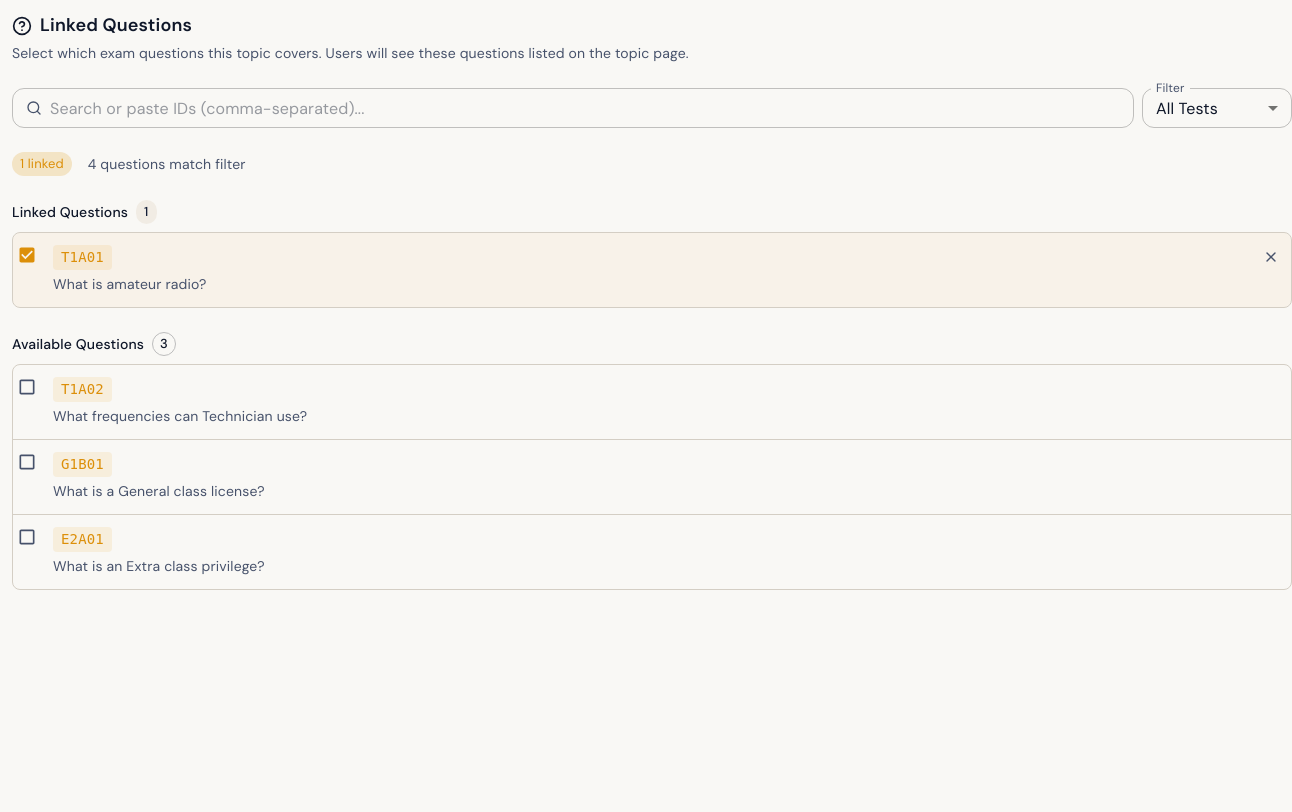
Test case: TopicQuestionManager › Test Type Filter › should filter to Technician questions only
Expected: the text "T1A01" is shown, [53,245,112,270]
// MUI's Select opens on mousedown, which userEvent raises and fireEvent.click does not.
Click the dropdown named "filter". click: point(1187, 108)
box: [1156,98,1218,118]
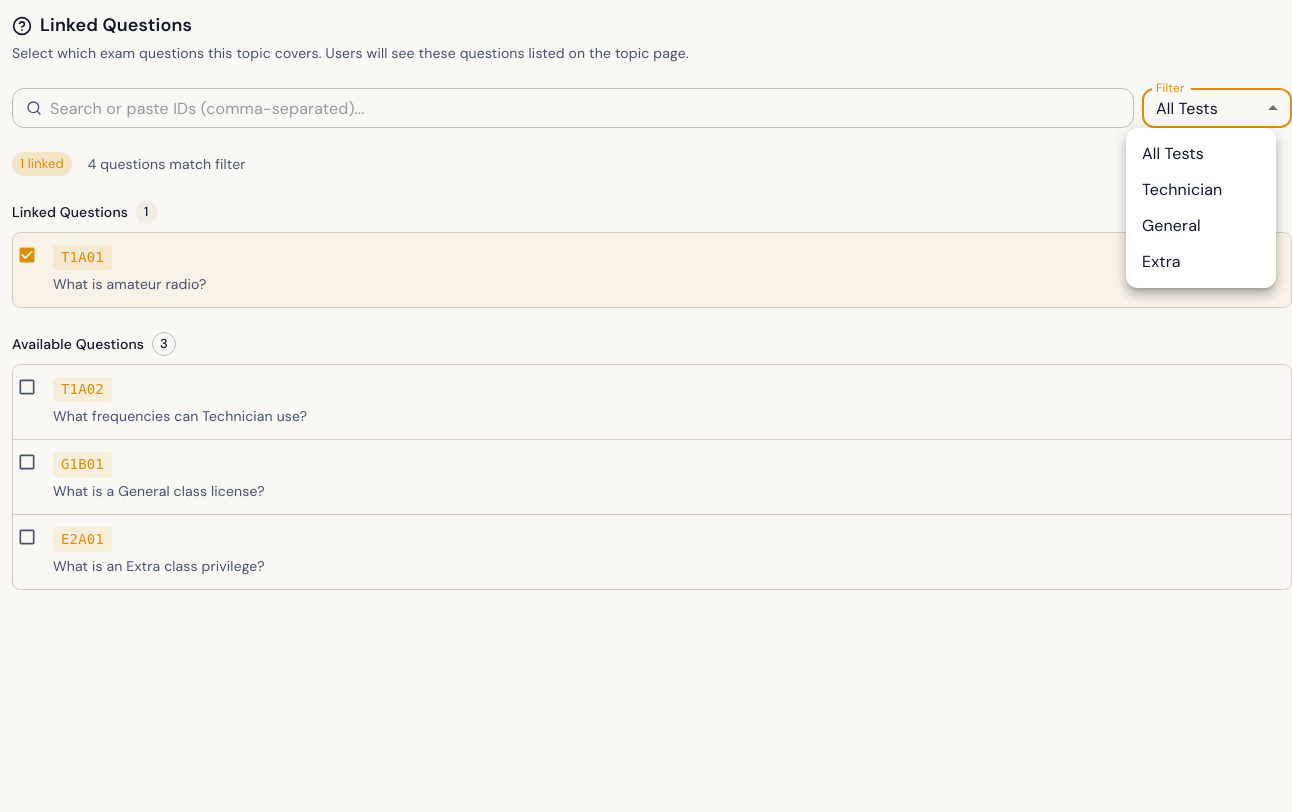
Click the option "Technician". click: point(1182, 190)
box: [1142,179,1222,200]
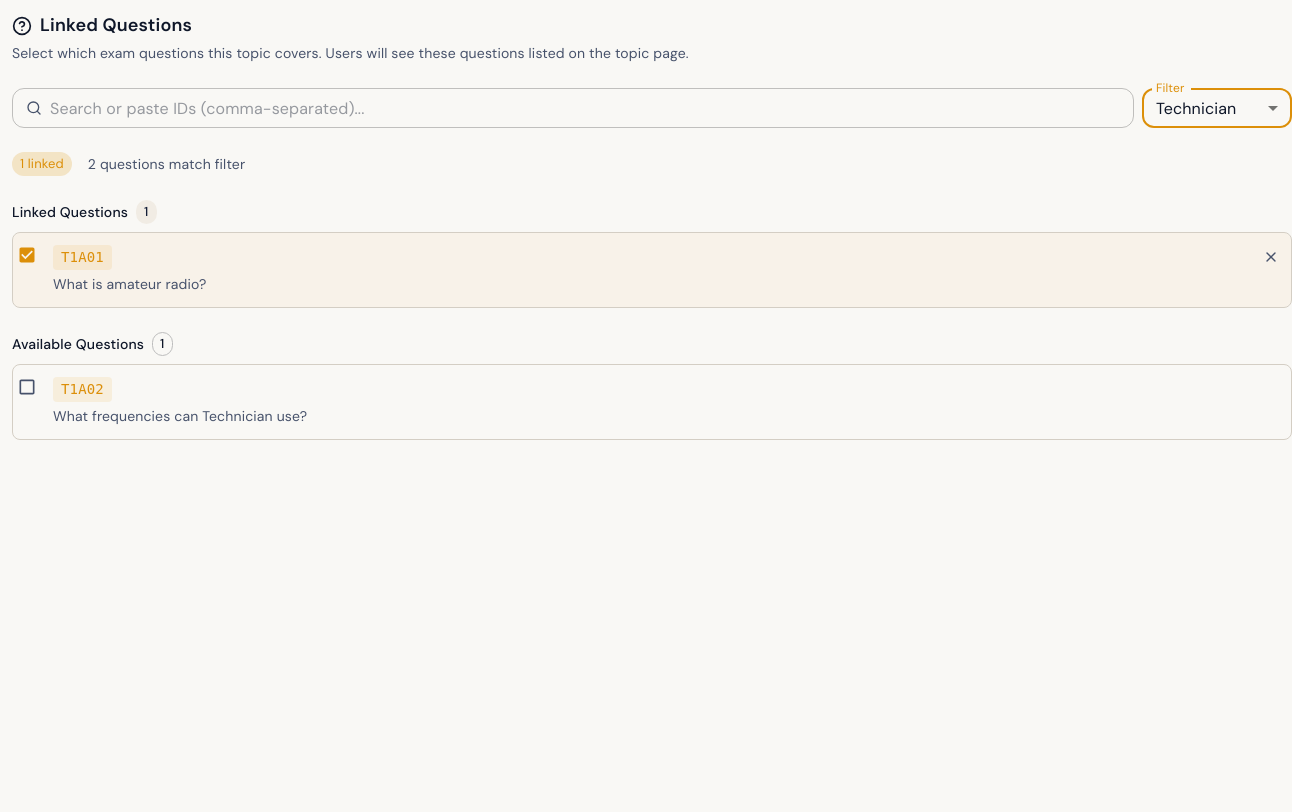
Expected: the text "T1A01" is shown, [53,245,112,270]
Expected: the button "G1B01" is gone
Expected: the button "E2A01" is gone
